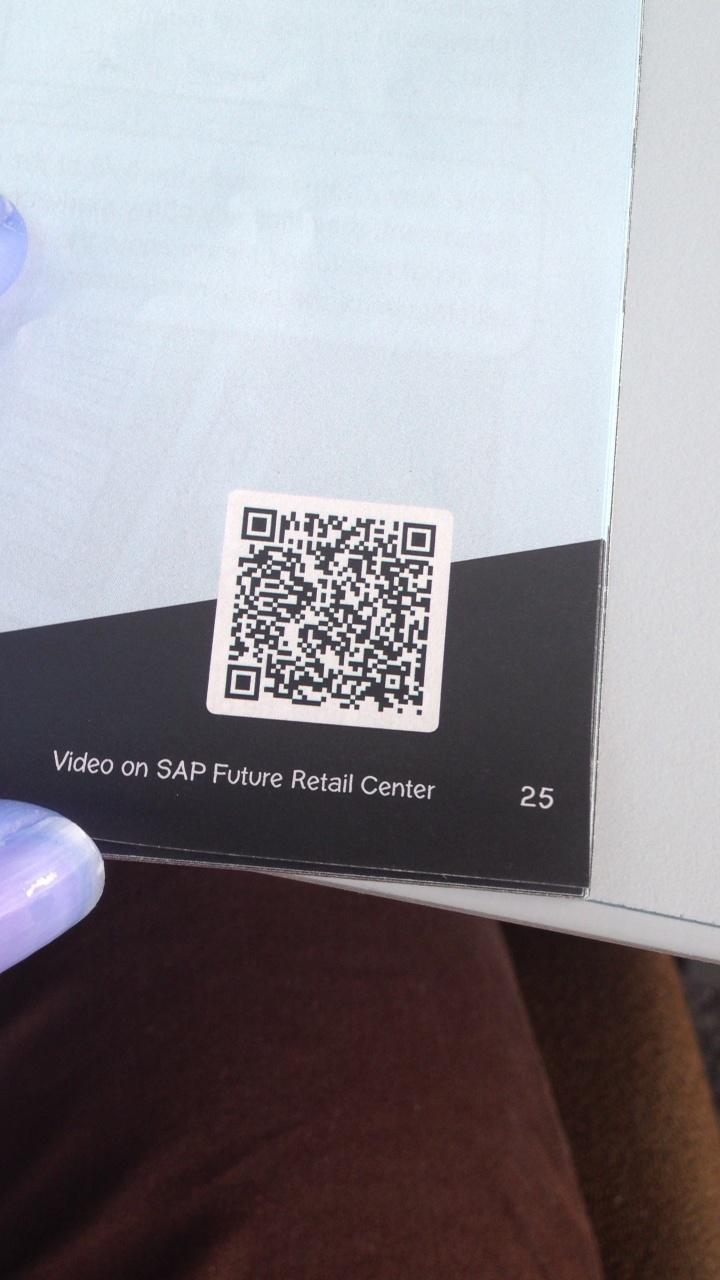Finder pattern: (219, 659, 266, 705), (396, 517, 440, 561), (236, 503, 280, 545)
